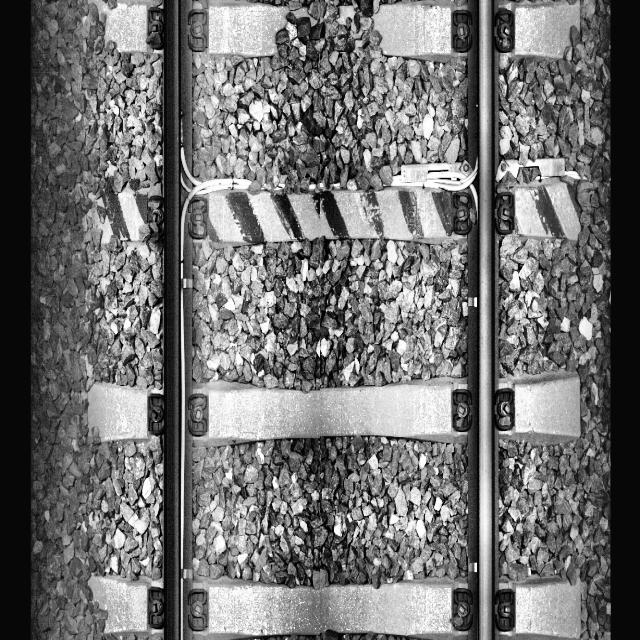Clips: (451, 586, 474, 632), (186, 195, 209, 238), (450, 10, 472, 54), (186, 589, 208, 632), (451, 388, 473, 431), (494, 387, 516, 430), (493, 10, 515, 53), (187, 9, 209, 52), (187, 393, 209, 436), (495, 588, 516, 630), (494, 192, 515, 234), (452, 194, 474, 233), (146, 7, 166, 49), (146, 394, 166, 434), (147, 587, 165, 630), (148, 196, 165, 238)
Sleepers: (84, 573, 581, 640), (85, 378, 581, 442), (90, 0, 583, 59), (93, 184, 582, 243)
